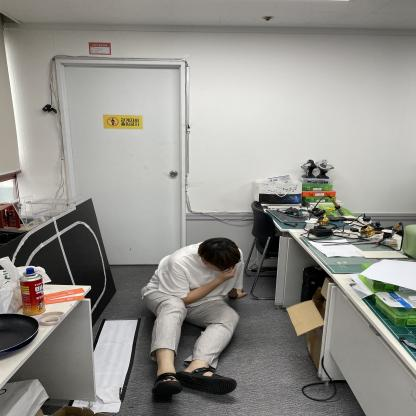fall: (148, 226, 248, 401)
